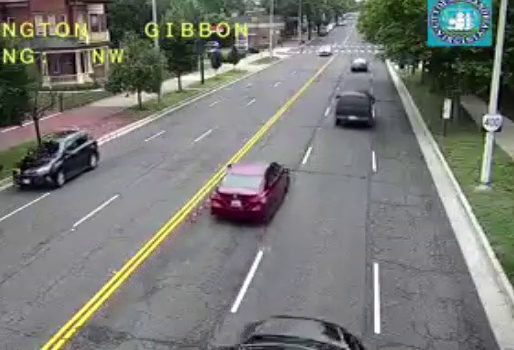car: (211, 162, 290, 220), (334, 92, 370, 123), (350, 58, 367, 73)
